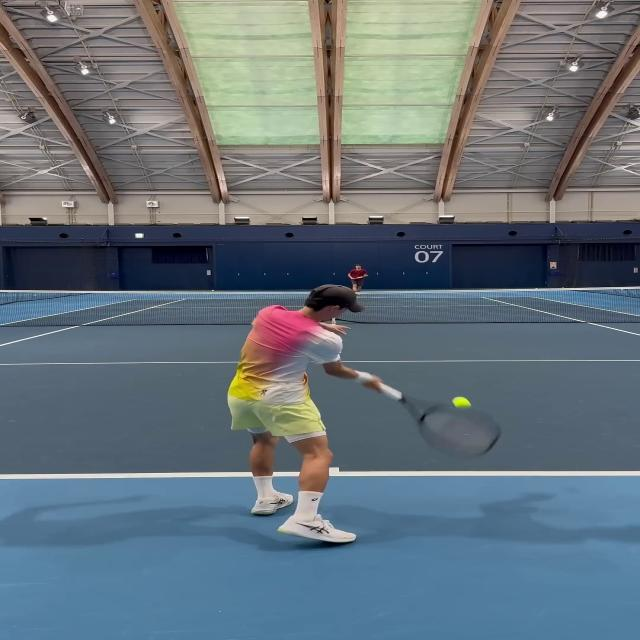tennis_ball: (455, 398, 467, 407)
